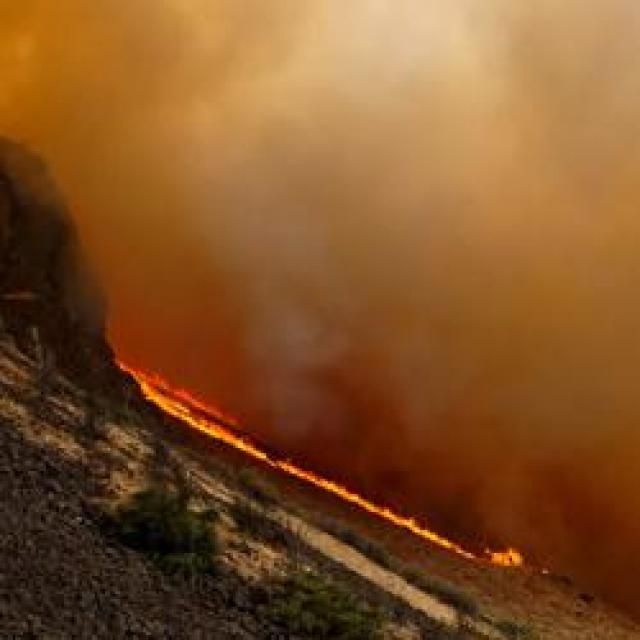fire: (111, 358, 520, 567)
